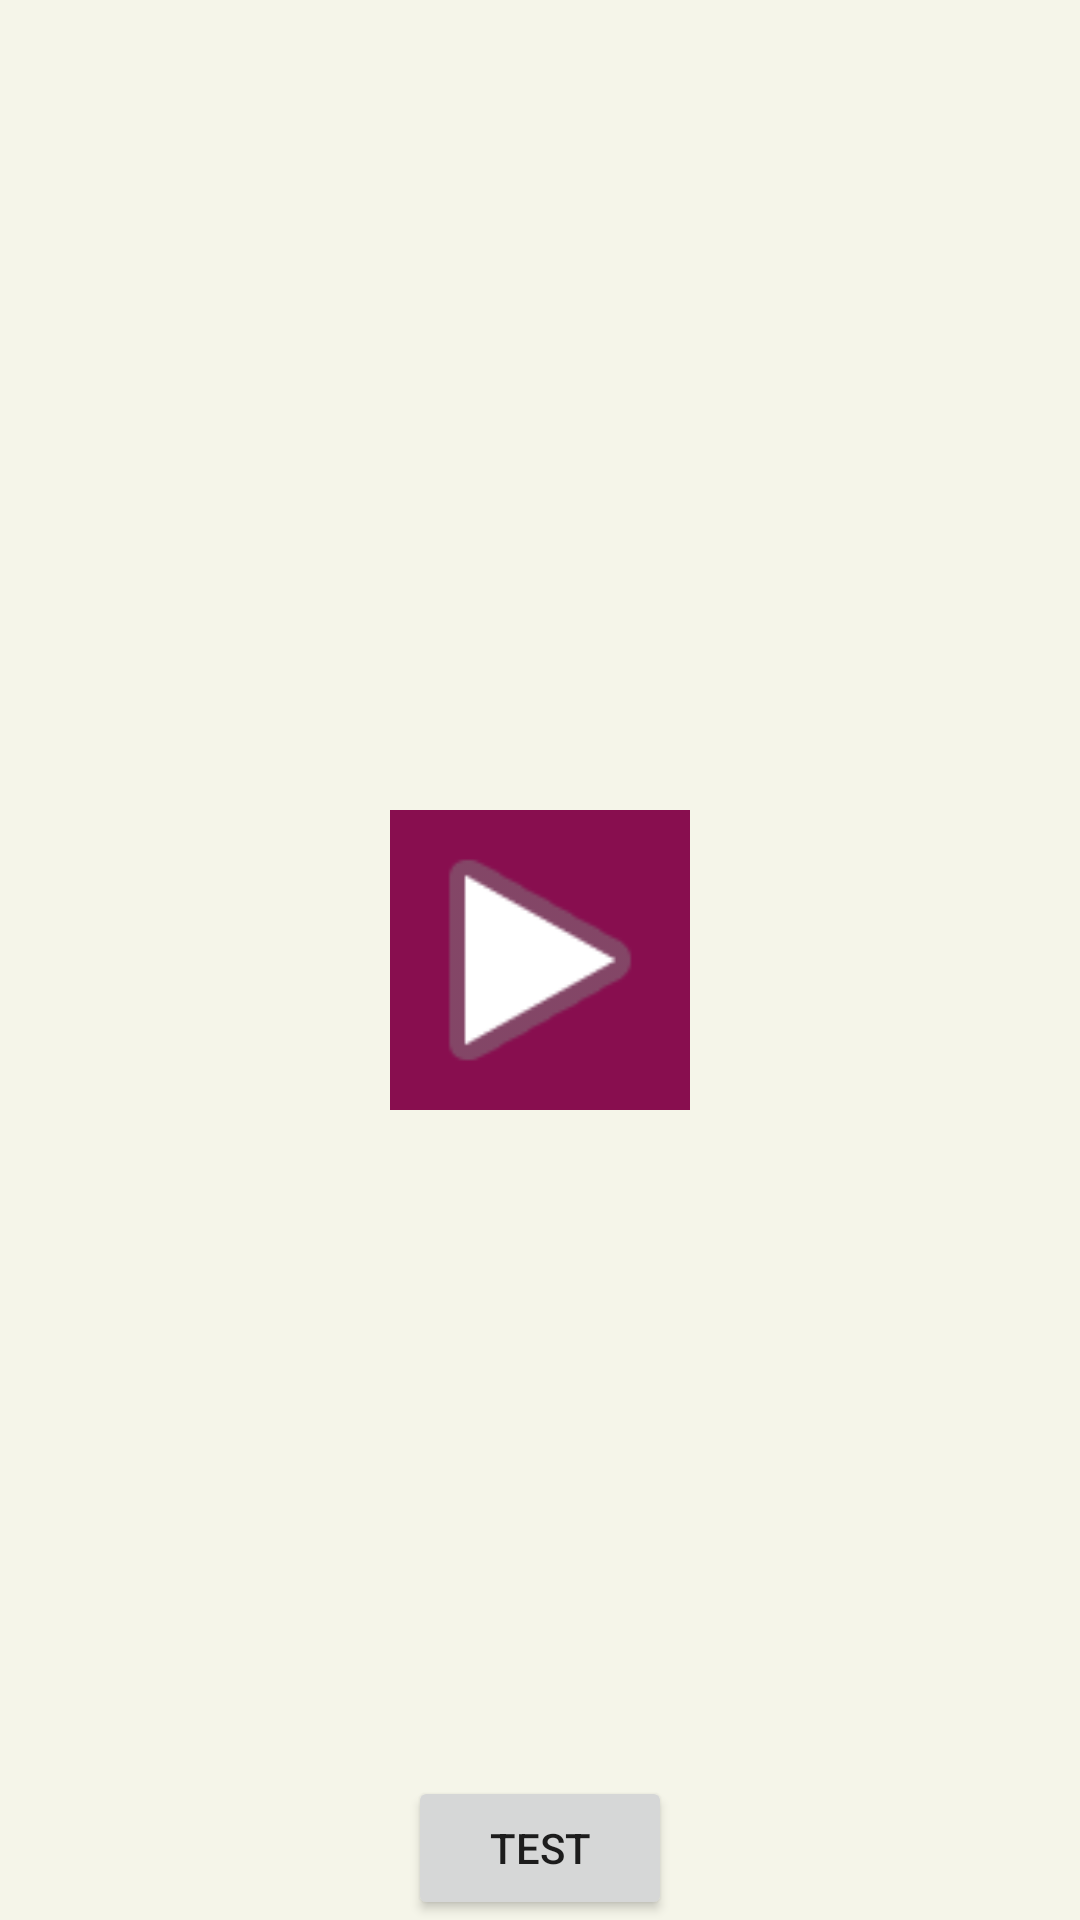

Screen size 1080*1920. Icon name, then its box in pixels as box(x1, y1, x2, y2):
play: box(390, 810, 690, 1110)
